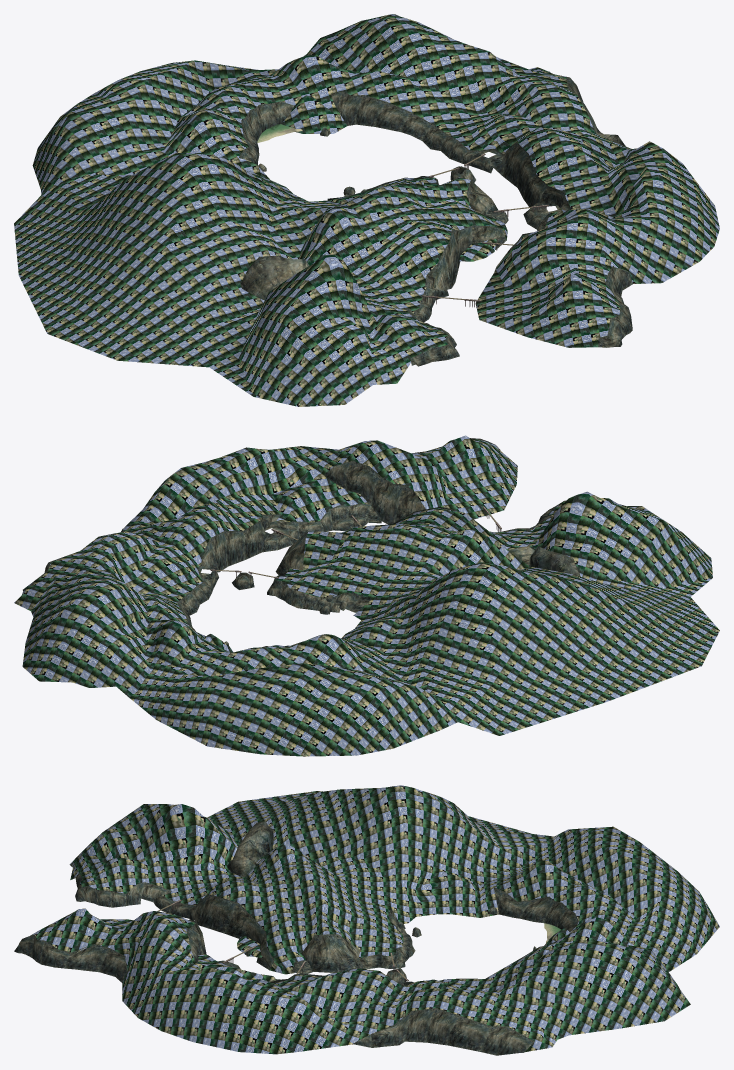
The model's file is pir_m_are_isl_pearl.fbx.
3 views of the same model, one above another, from view 1: azimuth 30°, elevation 25°; view 2: azimuth 150°, elevation 25°; view 3: azimuth 270°, elevation 25° (orthographic). The views are drawn at different scales.
Parts seen in each view (by area): view 1: backHills, cliff_10, cliff_6, mound_large1_high1, cliff_1, hill31; view 2: backHills, cliff_10, cliff_8, hill25, hill21, mound_large1_high1, rock_11, rock_12; view 3: backHills, cliff_7, cliff_6, cliff_1, cliff_10, rock_11, hill31, hill21, mound_large1_high1, cliff_8.
Boxes of the visible parts, box(x1,y1,x2,y2) form: backHills: box(14, 14, 719, 406); cliff_10: box(239, 91, 571, 210); cliff_6: box(413, 225, 506, 322); mound_large1_high1: box(240, 256, 309, 300); cliff_1: box(598, 266, 632, 347); hill31: box(405, 308, 459, 366); backHills: box(14, 435, 719, 756); cliff_10: box(177, 514, 345, 651); cliff_8: box(324, 460, 425, 524); hill25: box(268, 503, 381, 537); hill21: box(267, 569, 371, 612); mound_large1_high1: box(530, 546, 580, 576); rock_11: box(275, 532, 307, 575); rock_12: box(262, 526, 300, 552); backHills: box(30, 785, 719, 1054); cliff_7: box(353, 1008, 534, 1055); cliff_6: box(154, 894, 274, 970); cliff_1: box(14, 935, 127, 982); cliff_10: box(269, 887, 578, 985); rock_11: box(301, 934, 365, 972); hill31: box(75, 873, 171, 907); hill21: box(357, 907, 415, 969); mound_large1_high1: box(233, 821, 273, 862); cliff_8: box(186, 919, 206, 963).
Size of the model in its own units: 848481 by 133728 by 932045.
6 materials, 6 textured.
